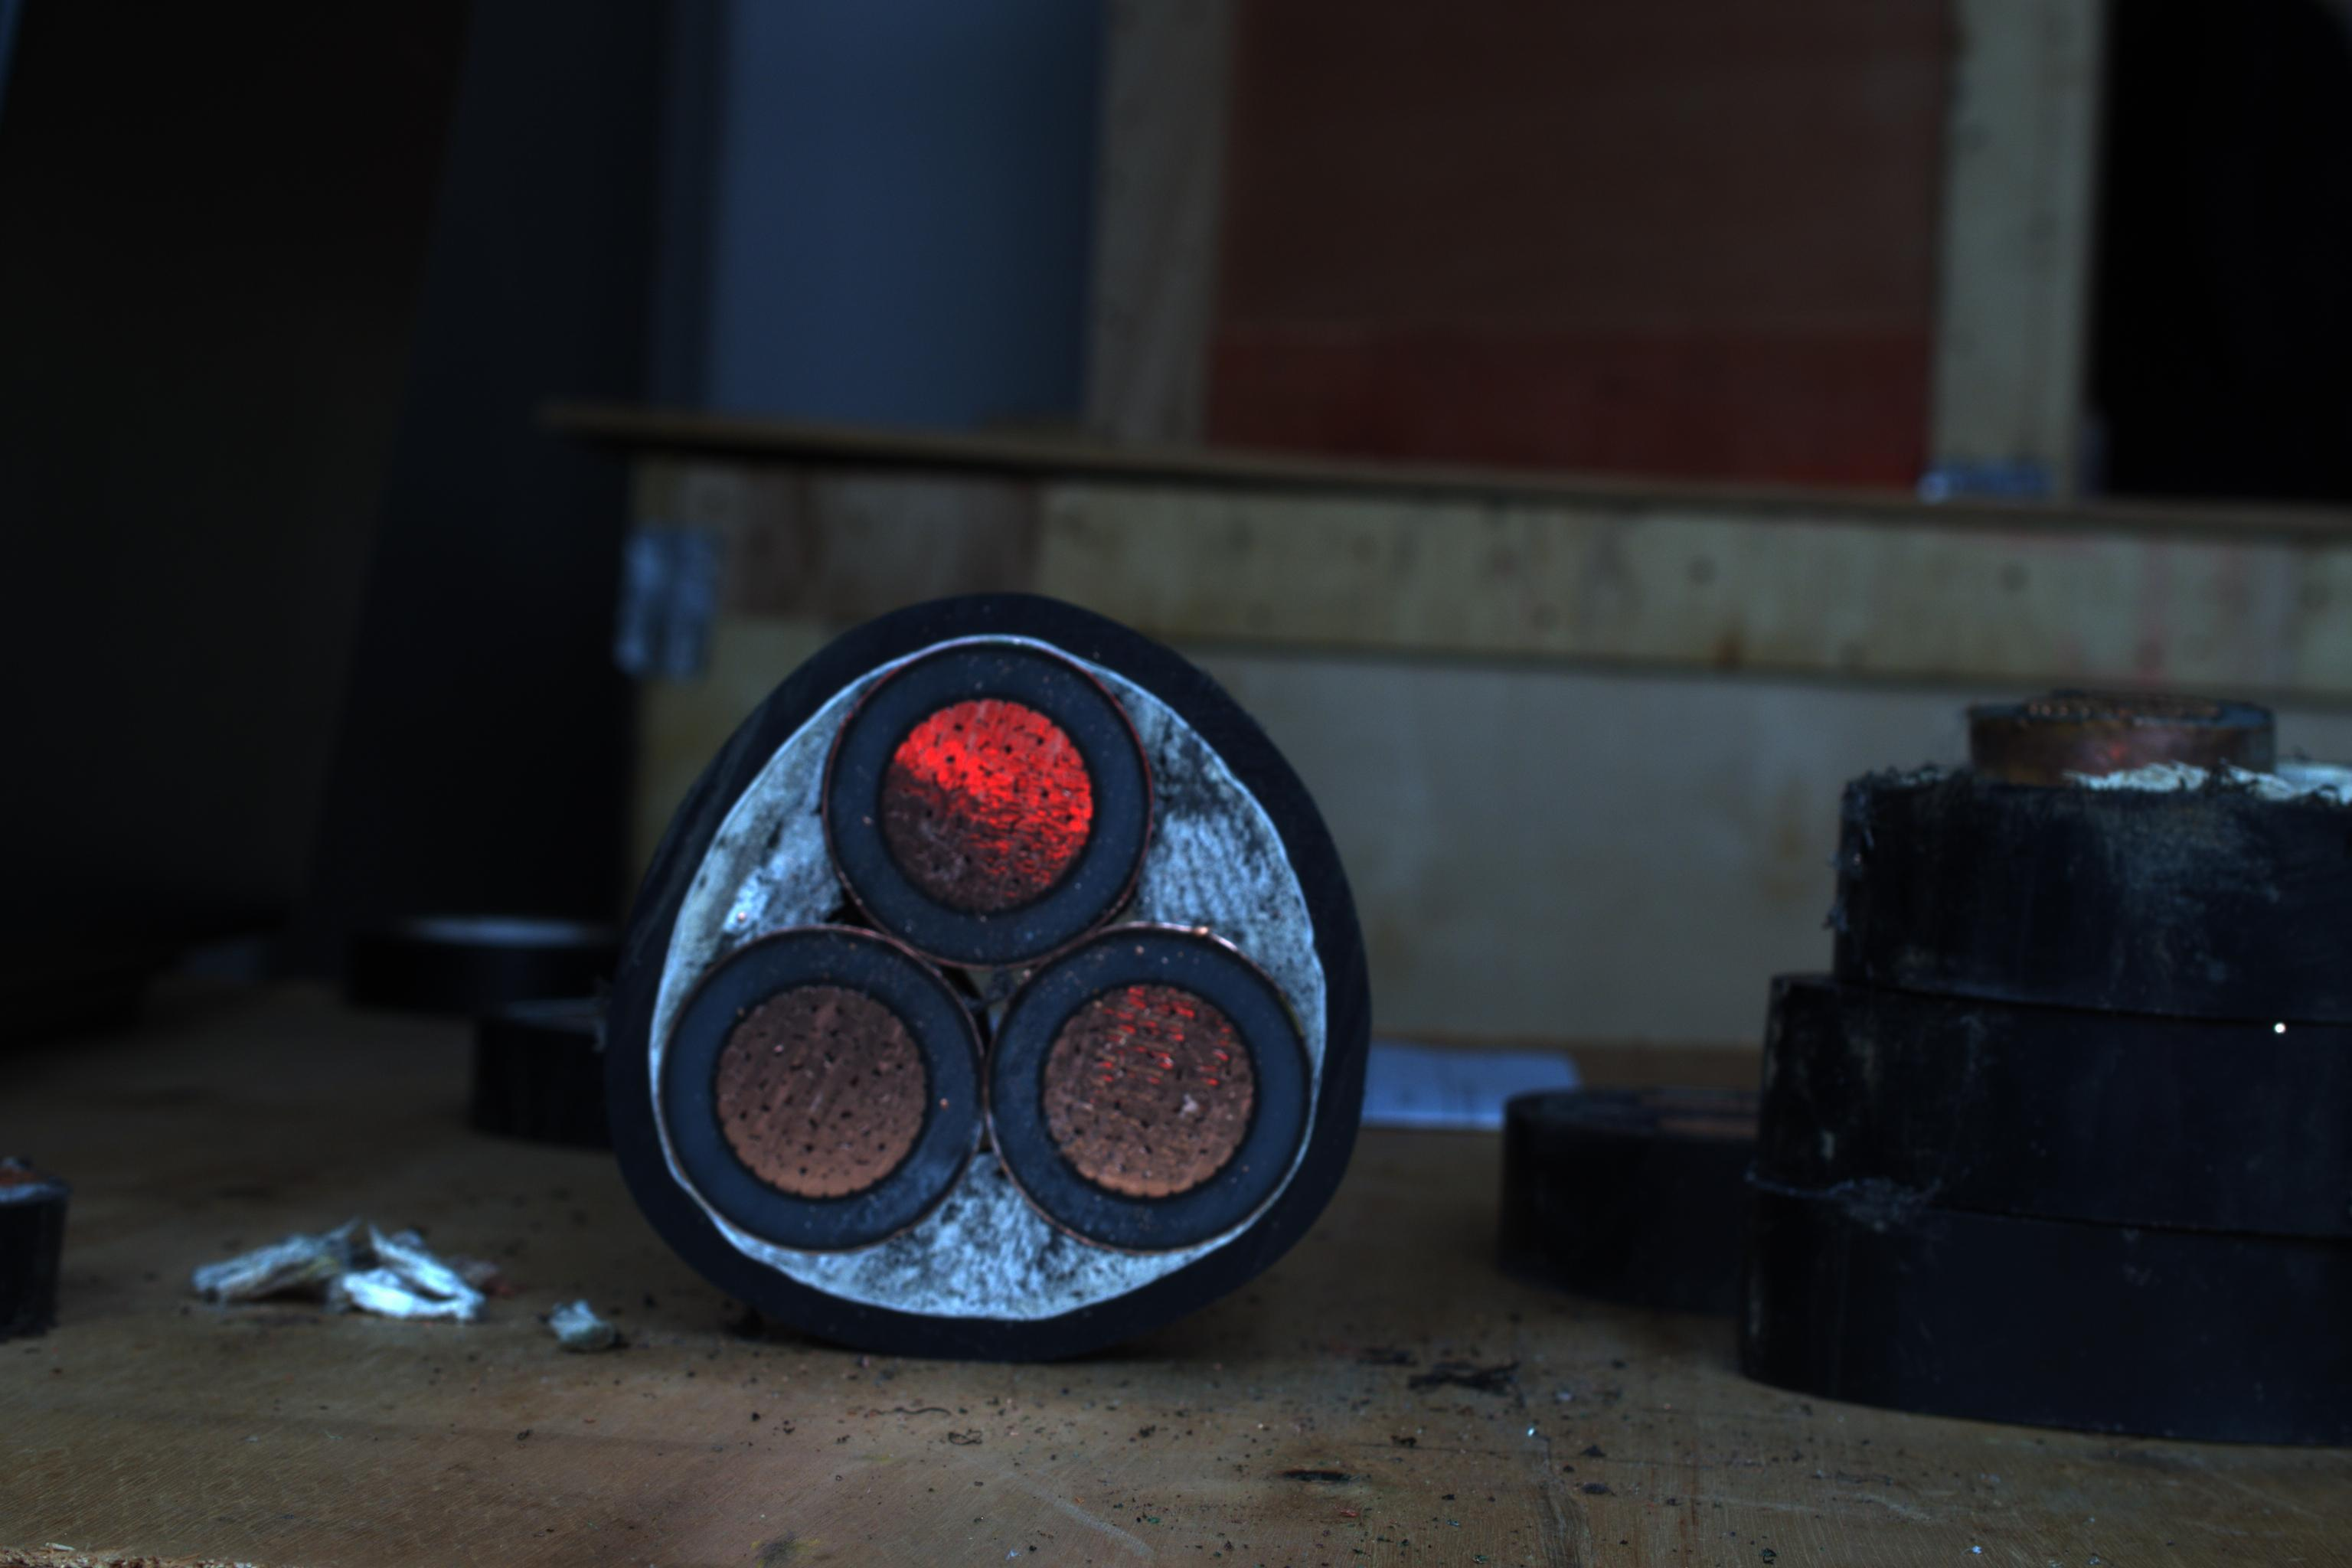ZA_YJV_8.7_10kV_3x400: (588, 614, 1347, 1340)
